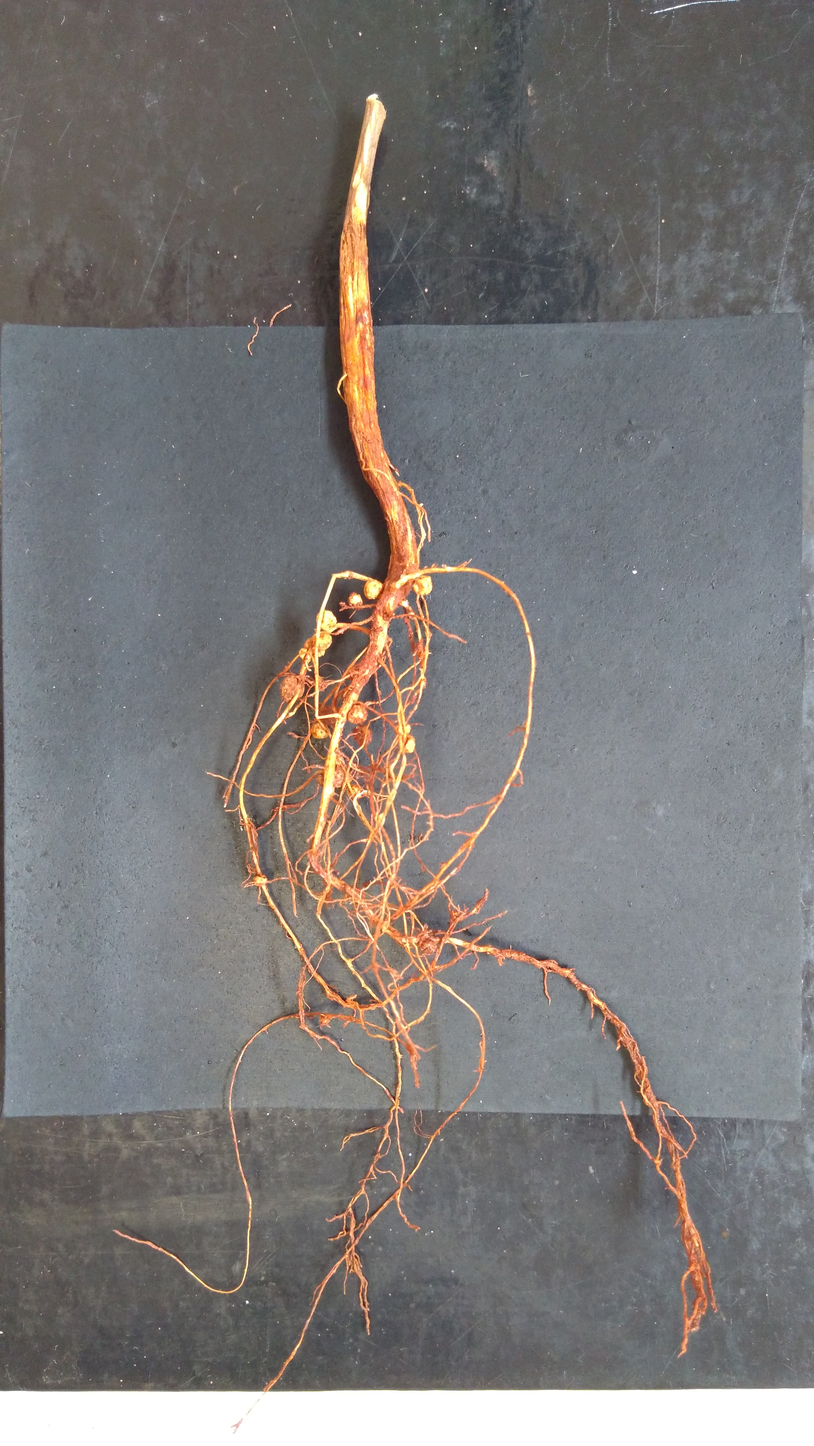nodule: (277, 673, 307, 704), (411, 574, 438, 598), (360, 575, 385, 600), (313, 607, 339, 631), (343, 702, 370, 725), (349, 725, 373, 749), (309, 630, 335, 651), (330, 761, 348, 788), (400, 733, 416, 756), (310, 721, 328, 741), (346, 590, 364, 609), (344, 784, 365, 800), (420, 939, 438, 957), (315, 773, 329, 788), (296, 646, 308, 661), (253, 874, 268, 886), (397, 723, 412, 735)
